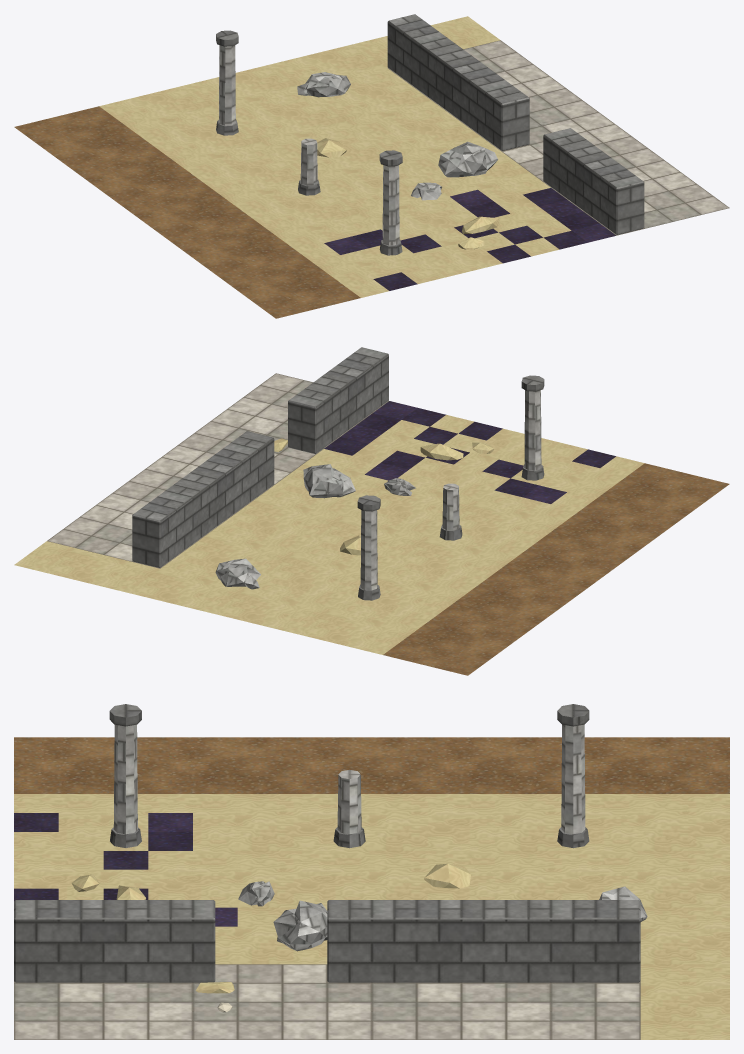
The model's file is chunk_6_21.glb.
3 renders of one model, top to bottom at view 1: azimuth 30°, elevation 25°; view 2: azimuth 150°, elevation 25°; view 3: azimuth 270°, elevation 25°, orthographic. The views are drawn at different scales.
Visible parts, largest first — view 1: chunk_6_21; view 2: chunk_6_21; view 3: chunk_6_21.
Boxes of the visible parts, x1,y1,x2,y2 form: chunk_6_21: (14, 14, 729, 318); chunk_6_21: (14, 347, 729, 675); chunk_6_21: (14, 704, 729, 1039).
Size of the model in its own units: 16 by 3.67 by 16.
9 materials, 8 textured.
